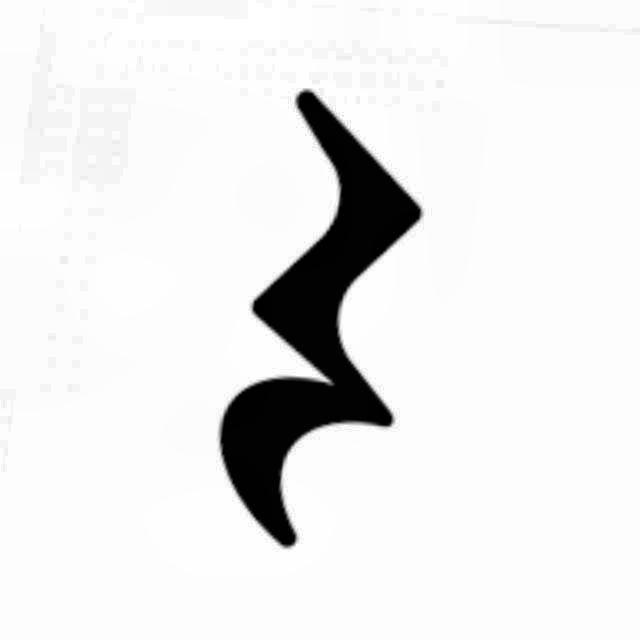Quarter-rest: (192, 77, 460, 560)
